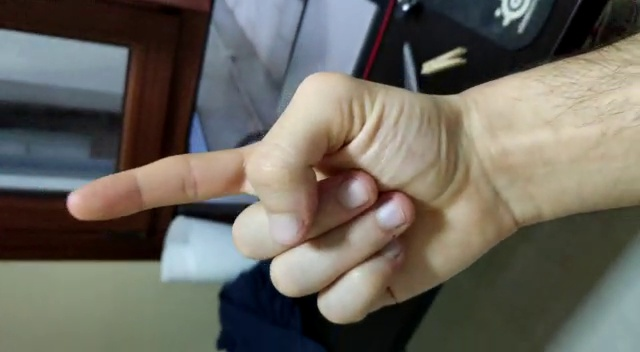One: (66, 66, 516, 328)
